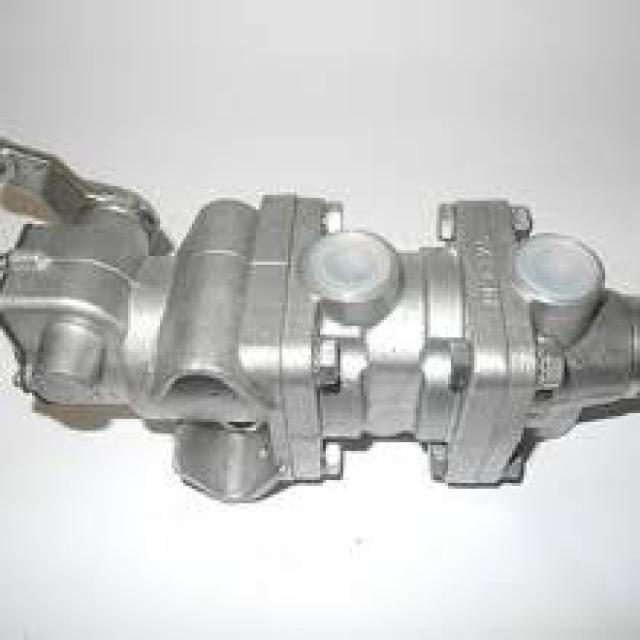video_frame: (2, 126, 640, 507)
